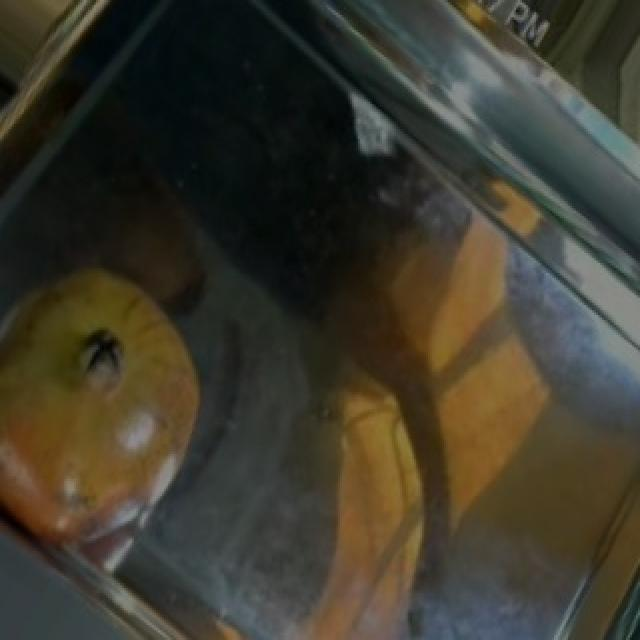fruit: (0, 241, 234, 491), (600, 0, 640, 181)
